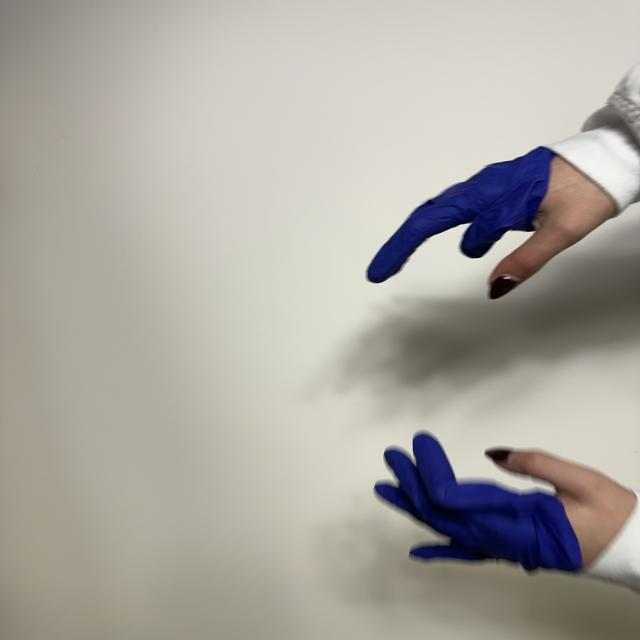glove_partial: (368, 148, 614, 298), (375, 434, 637, 572)
